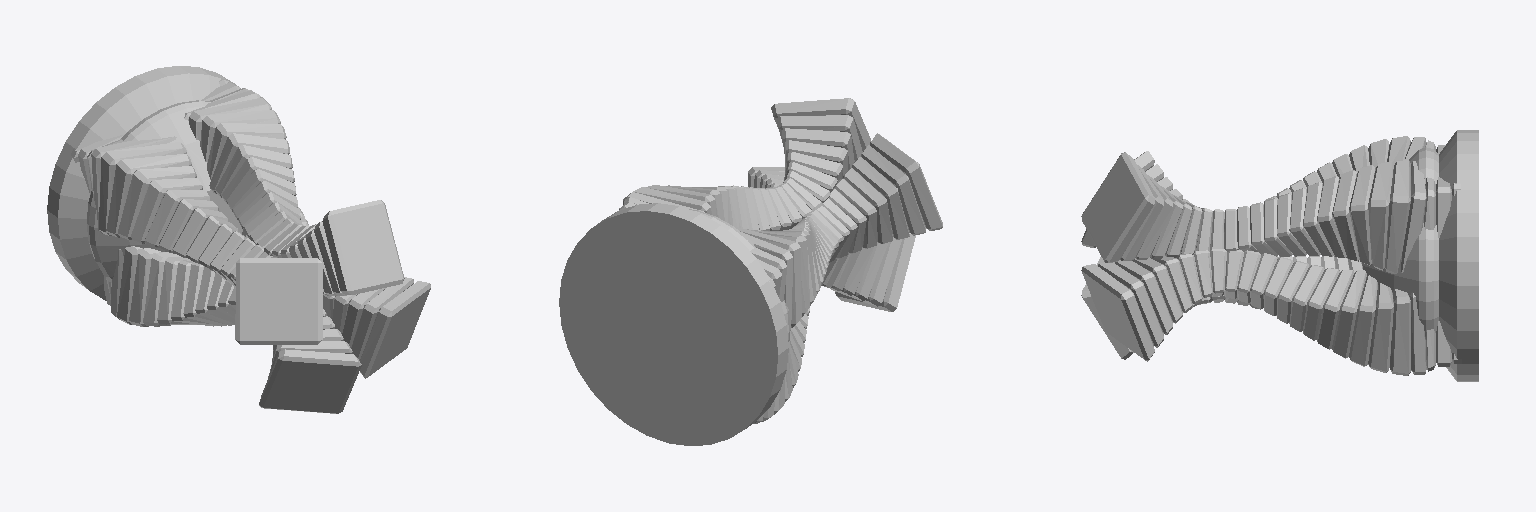
Rendered from Alien-Rook.obj.
3 renders of one model, left to right at view 1: azimuth 30°, elevation 25°; view 2: azimuth 150°, elevation 25°; view 3: azimuth 270°, elevation 25°, orthographic.
Size of the model in its own units: 32.81 by 32.81 by 51.48.